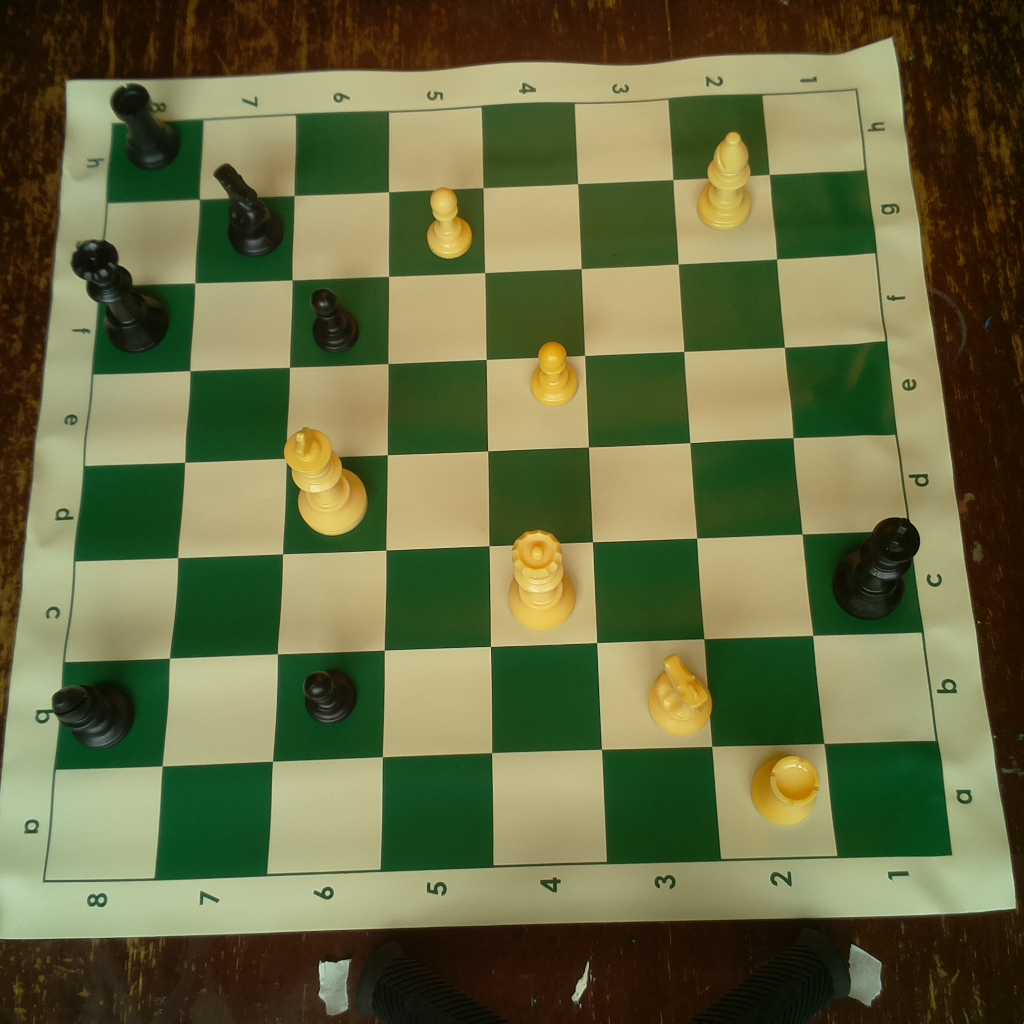black_bishop: (50, 677, 138, 751)
black_king: (832, 513, 921, 621)
black_knight: (206, 158, 288, 258)
black_pawn: (297, 656, 362, 727), (307, 280, 366, 352)
black_queen: (67, 240, 175, 351)
black_rook: (103, 77, 184, 171)
file_a: (46, 741, 954, 883)
file_b: (55, 632, 938, 771)
file_c: (63, 528, 920, 664)
file_d: (76, 435, 912, 561)
file_e: (83, 343, 901, 466)
file_f: (92, 252, 889, 375)
file_g: (98, 169, 875, 288)
file_h: (106, 90, 868, 206)
outline: (47, 91, 950, 880)
rank_1: (760, 88, 951, 860)
rank_2: (670, 95, 838, 856)
rank_3: (575, 97, 723, 861)
rank_4: (481, 102, 611, 862)
rank_5: (380, 108, 493, 871)
rank_6: (266, 110, 390, 873)
rank_7: (154, 113, 296, 880)
rank_8: (45, 122, 206, 882)
white_bishop: (693, 128, 754, 231)
white_king: (284, 425, 368, 535)
white_knight: (644, 649, 715, 738)
white_pawn: (420, 183, 477, 264), (527, 332, 585, 408)
white_queen: (505, 525, 585, 630)
white_rook: (747, 748, 825, 827)
